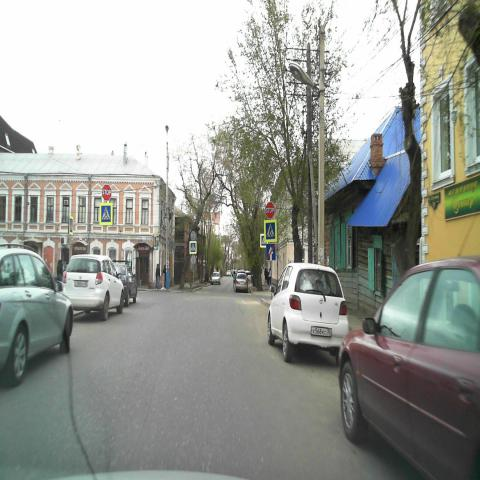2_5: (265, 201, 275, 219)
5_6: (266, 244, 276, 260)
